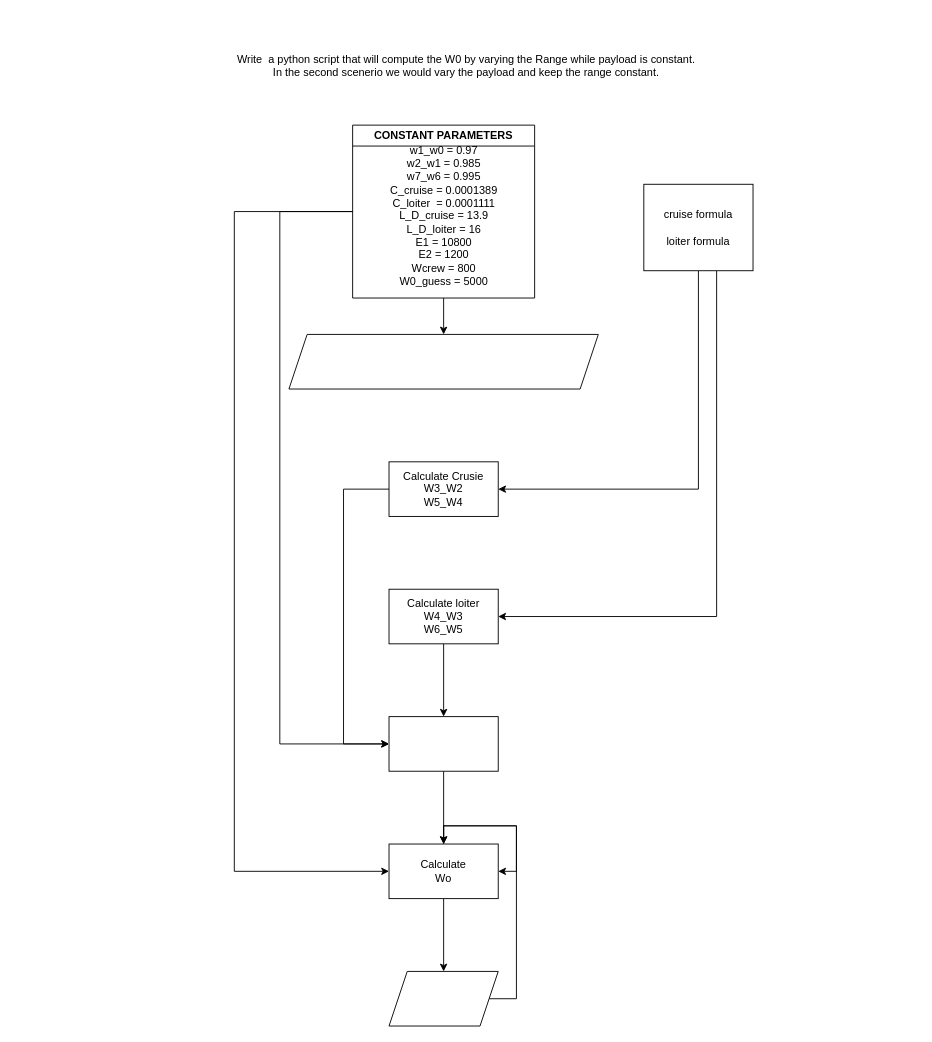
Some shapes in this 932 by 1042 pixel diagram are drawn without their labels. Each missing label, with the box of its shape:
Calculate W7_W0: (388, 716, 498, 771)
Display the Wo: (388, 971, 498, 1026)
Inputs 1. Range: (start, end, step) 2. Payload (start, end, step): (288, 334, 598, 389)
